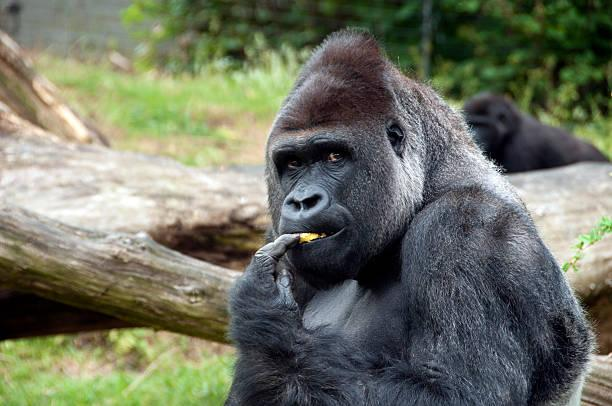gorille_Autres: (244, 31, 576, 406)
